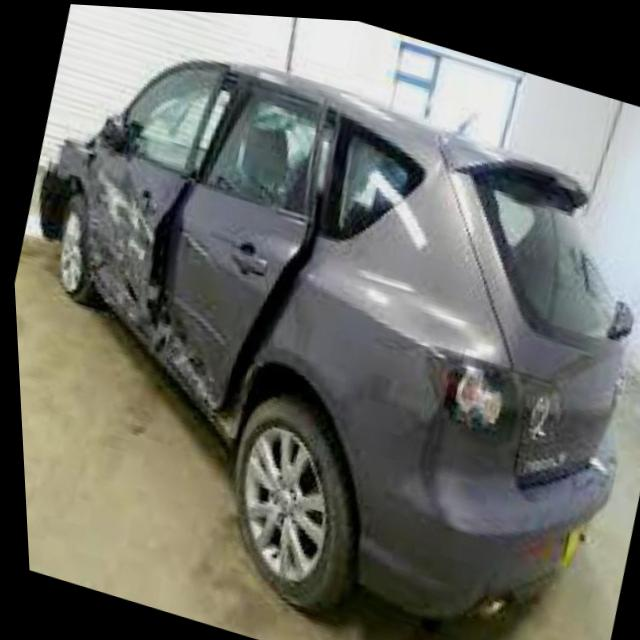Car-Damage: (1, 15, 321, 442)
